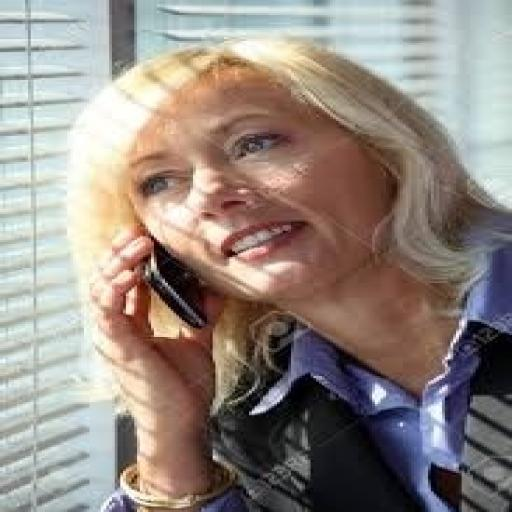calling: (64, 34, 510, 510)
